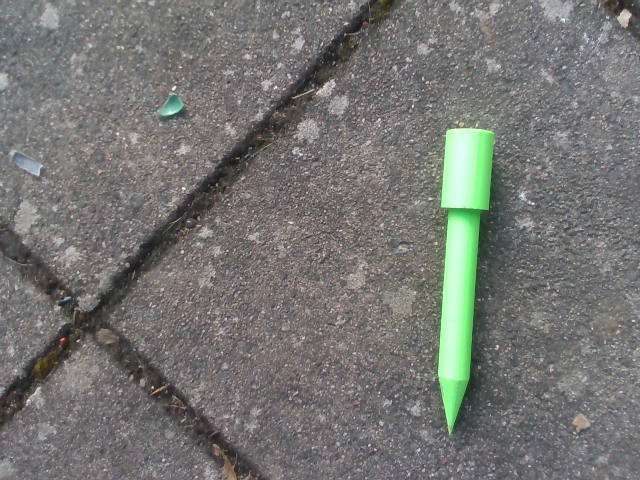Probe: (431, 117, 500, 444)
